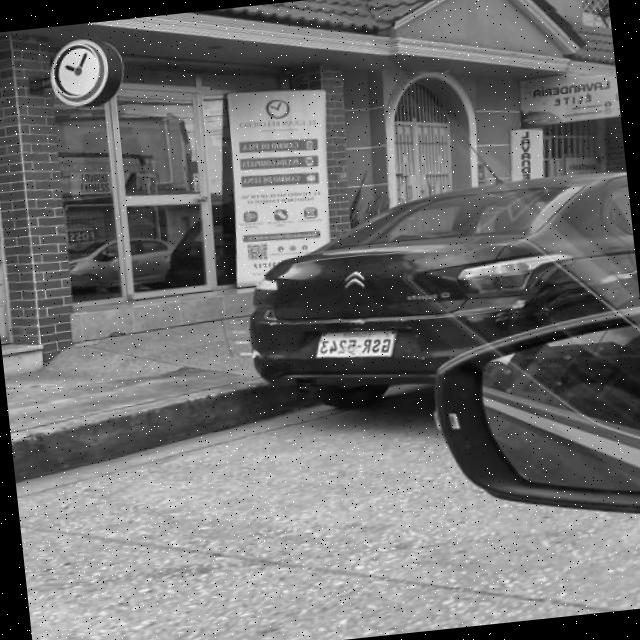Placa: (316, 331, 396, 357)
